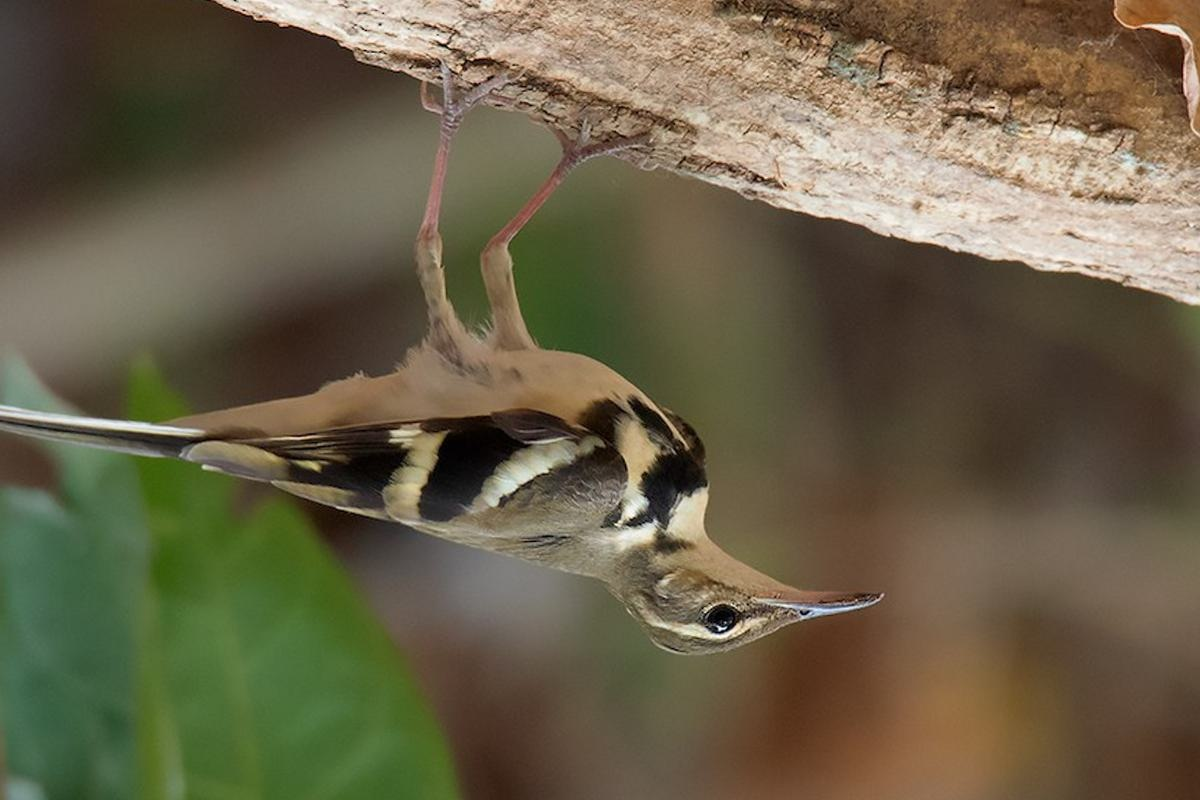wagtail: (67, 86, 894, 681)
